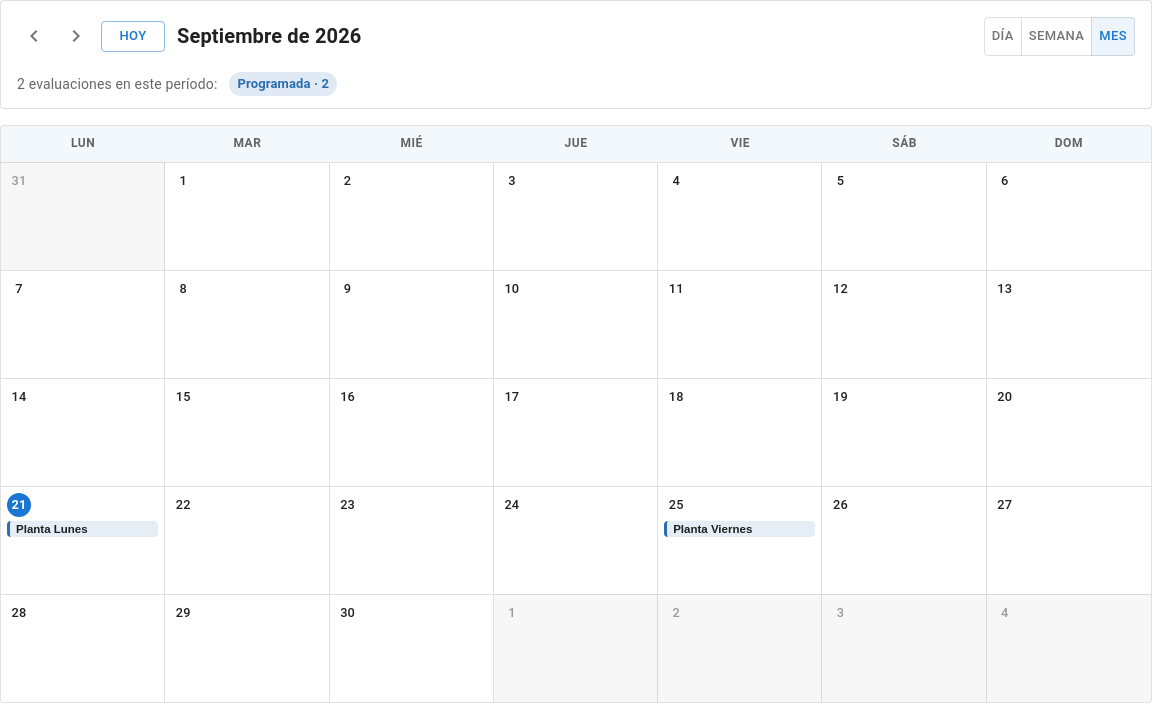
Test: CalendarioEvaluador › vista de semana › muestra los siete días de la semana con sus evaluaciones sin volver a pedir datos
The image size is (1152, 720).
What coordinates should you click on to do the following:
click the button "Semana"
I would click on:
 (1056, 36)
Its box is [1021,17,1092,56].
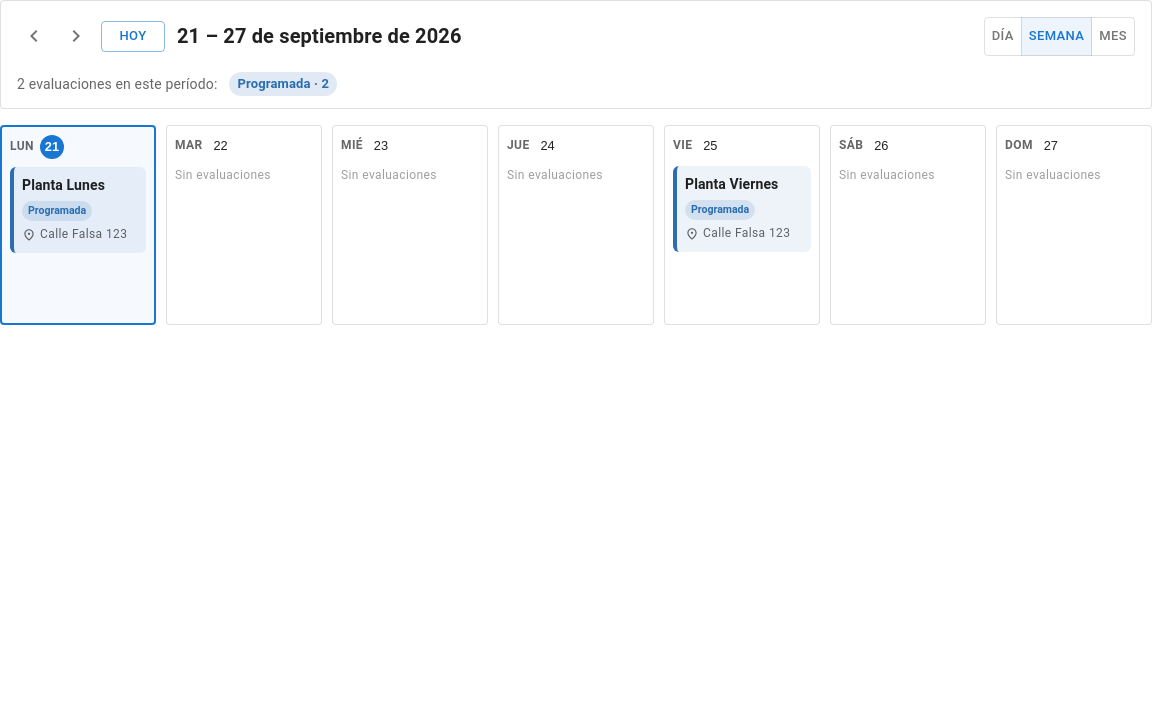
Now the heading "21 – 27 de septiembre de 2026" is shown, box [177,20,462,52]
Now the button with aria-label "Planta Lunes, Programada" is shown, box [10,167,146,253]
Now the button with aria-label "Planta Viernes, Programada" is shown, box [673,166,811,252]
